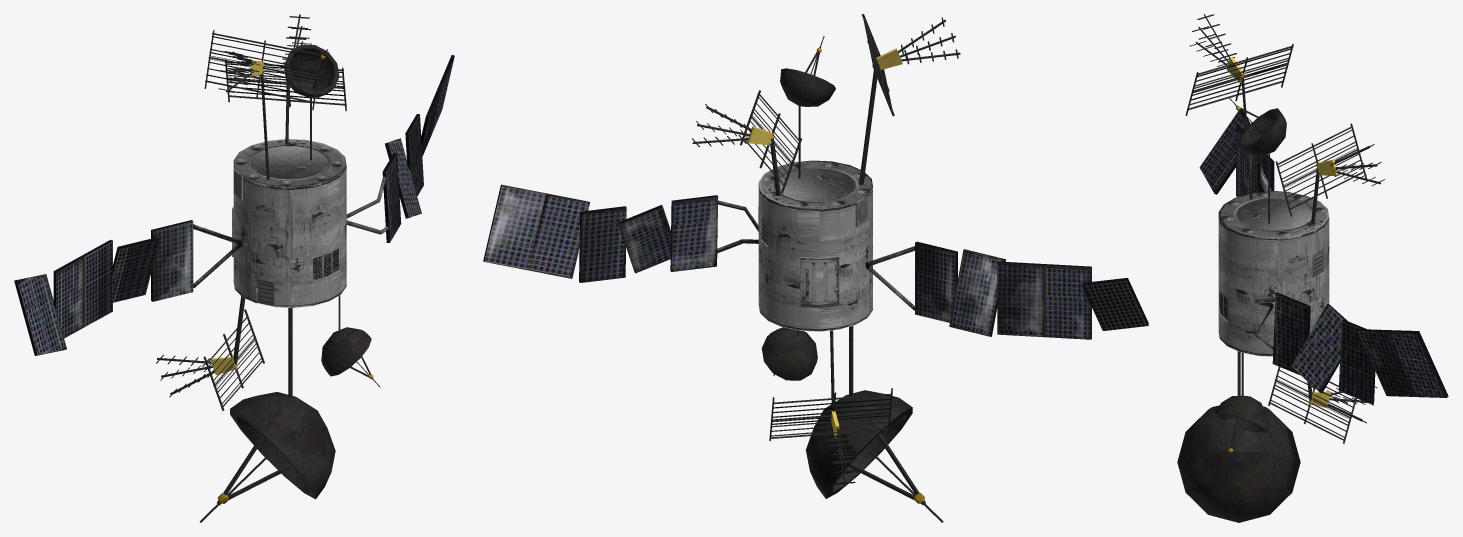
The model's file is Satellite.DAE.
The picture shows the model from 3 angles, left to right: view 1: azimuth 30°, elevation 25°; view 2: azimuth 150°, elevation 25°; view 3: azimuth 270°, elevation 25°; orthographic projection. The views are drawn at different scales.
Visible parts, largest first — view 1: satelite; view 2: satelite; view 3: satelite.
Part boxes in pixels (<box>): satelite: <box>14,14,454,522</box>; satelite: <box>483,14,1148,522</box>; satelite: <box>1177,14,1448,522</box>.
Size of the model in its own units: 7.86 by 3.54 by 6.78.
